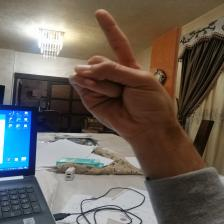one: (67, 8, 178, 138)
